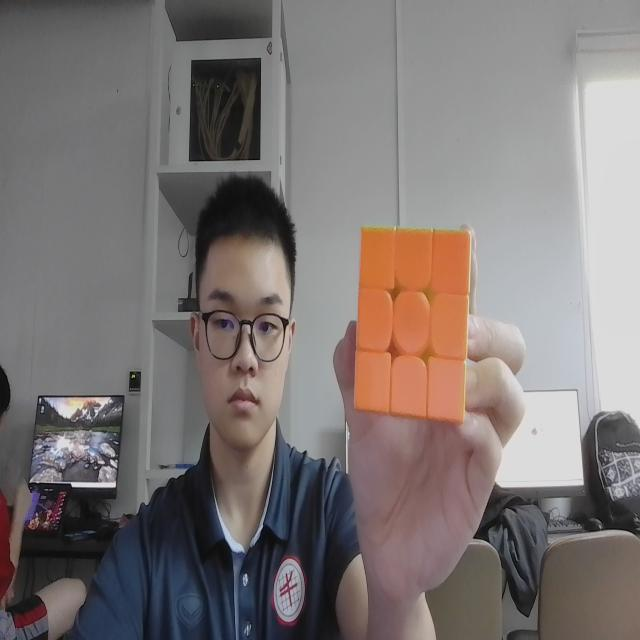rubik: (344, 212, 478, 436)
